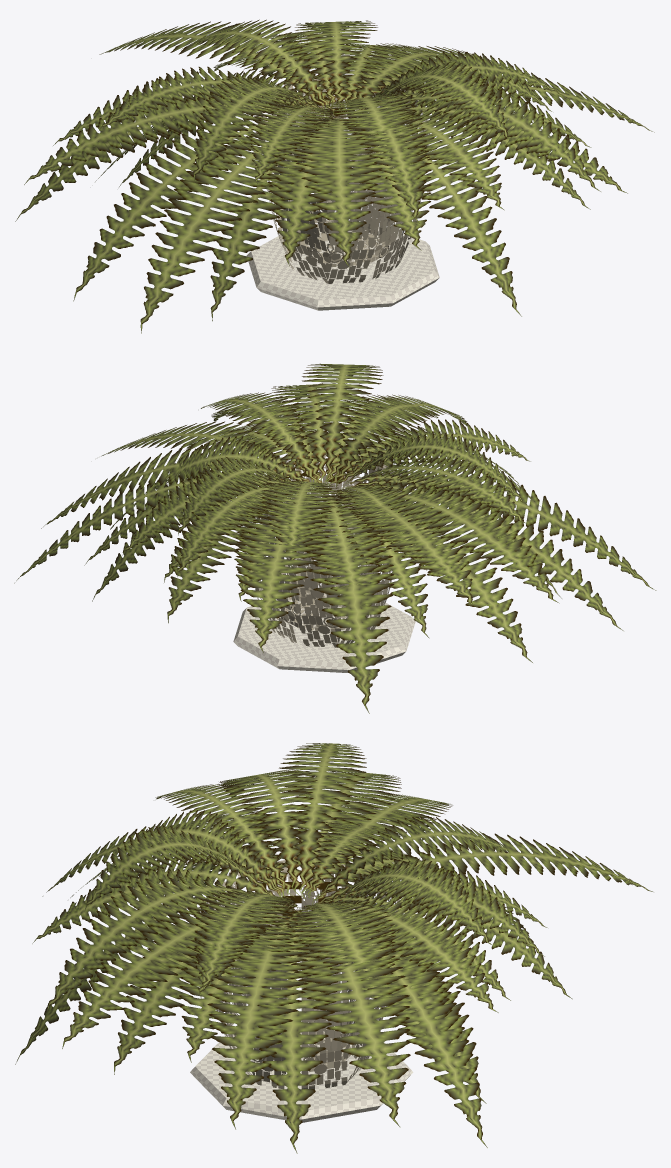
File: boston_fern.obj
3 renders of one model, top to bottom at view 1: azimuth 30°, elevation 25°; view 2: azimuth 150°, elevation 25°; view 3: azimuth 270°, elevation 25°, orthographic. The views are drawn at different scales.
Visible parts, largest first — view 1: Saucer, FrondCard_033, Pot, FrondCard_022, FrondCard_011, FrondCard_013, FrondCard_003, FrondCard_030, FrondCard_021, FrondCard_018, FrondCard_017, FrondCard_027 (+25 smaller); view 2: Saucer, FrondCard_024, FrondCard_003, FrondCard_023, Pot, FrondCard_010, FrondCard_009, FrondCard_033, FrondCard_022, FrondCard_004, FrondCard_041, FrondCard_020 (+27 smaller); view 3: FrondCard_040, FrondCard_028, FrondCard_019, FrondCard_027, FrondCard_034, Saucer, FrondCard_035, FrondCard_012, FrondCard_029, Pot, FrondCard_007, FrondCard_023 (+27 smaller).
Boxes of the visible parts, bbox=[...] form: Saucer: bbox=[246, 225, 439, 310]; FrondCard_033: bbox=[140, 125, 300, 333]; Pot: bbox=[256, 79, 430, 283]; FrondCard_022: bbox=[73, 114, 323, 301]; FrondCard_011: bbox=[293, 118, 382, 267]; FrondCard_013: bbox=[391, 126, 521, 316]; FrondCard_003: bbox=[24, 92, 321, 184]; FrondCard_030: bbox=[267, 118, 356, 266]; FrondCard_021: bbox=[193, 77, 328, 181]; FrondCard_018: bbox=[392, 110, 504, 210]; FrondCard_017: bbox=[210, 121, 318, 321]; FrondCard_027: bbox=[364, 84, 600, 191]; Saucer: bbox=[233, 592, 415, 672]; FrondCard_024: bbox=[307, 500, 394, 713]; FrondCard_003: bbox=[351, 486, 559, 603]; FrondCard_023: bbox=[236, 499, 330, 652]; Pot: bbox=[245, 454, 406, 647]; FrondCard_010: bbox=[336, 492, 476, 606]; FrondCard_009: bbox=[306, 496, 384, 617]; FrondCard_033: bbox=[339, 470, 656, 590]; FrondCard_022: bbox=[338, 481, 623, 630]; FrondCard_004: bbox=[302, 363, 383, 483]; FrondCard_041: bbox=[341, 497, 532, 662]; FrondCard_020: bbox=[262, 480, 342, 566]; FrondCard_040: bbox=[291, 905, 410, 1127]; FrondCard_028: bbox=[207, 909, 313, 1129]; FrondCard_019: bbox=[346, 921, 487, 1147]; FrondCard_027: bbox=[46, 876, 255, 1013]; FrondCard_034: bbox=[256, 912, 338, 1153]; Saucer: bbox=[190, 1027, 413, 1122]; FrondCard_035: bbox=[62, 904, 288, 1048]; FrondCard_012: bbox=[324, 898, 498, 1012]; FrondCard_029: bbox=[277, 743, 366, 897]; Pot: bbox=[200, 860, 399, 1089]; FrondCard_007: bbox=[285, 901, 395, 1008]; FrondCard_023: bbox=[323, 833, 652, 903].
Bounding box in the file's own units: 7 × 2.64 × 6.04.
